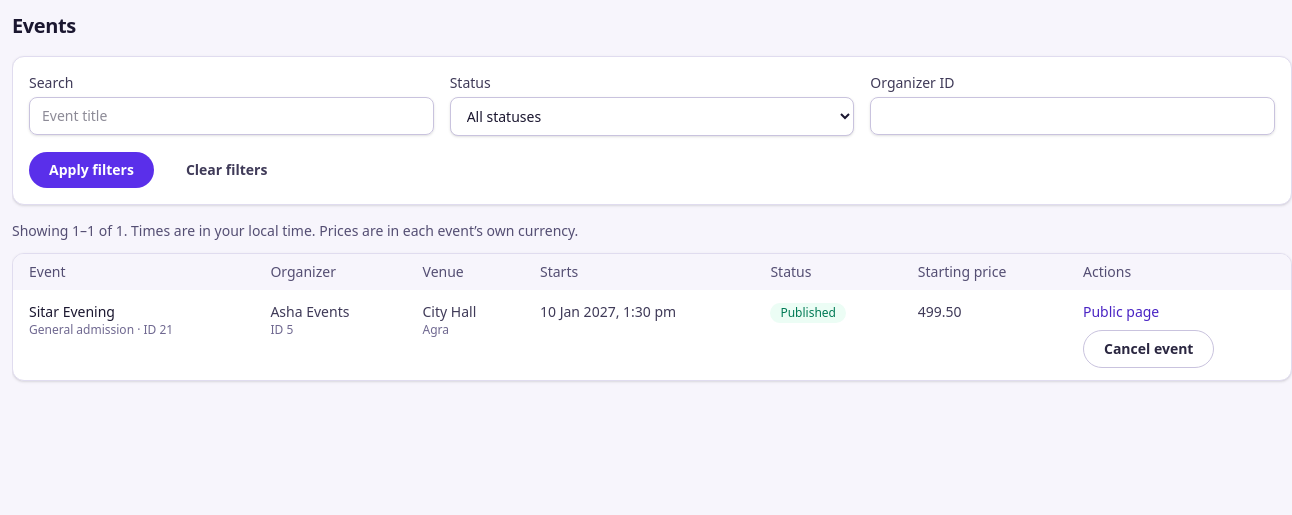
Scenario: AdminEventsPage › lets the admin back out of cancelling
This screenshot has width=1292, height=515.
Click the button with aria-label "Cancel Sitar Evening" at (1149, 349), box [1083, 330, 1214, 368]
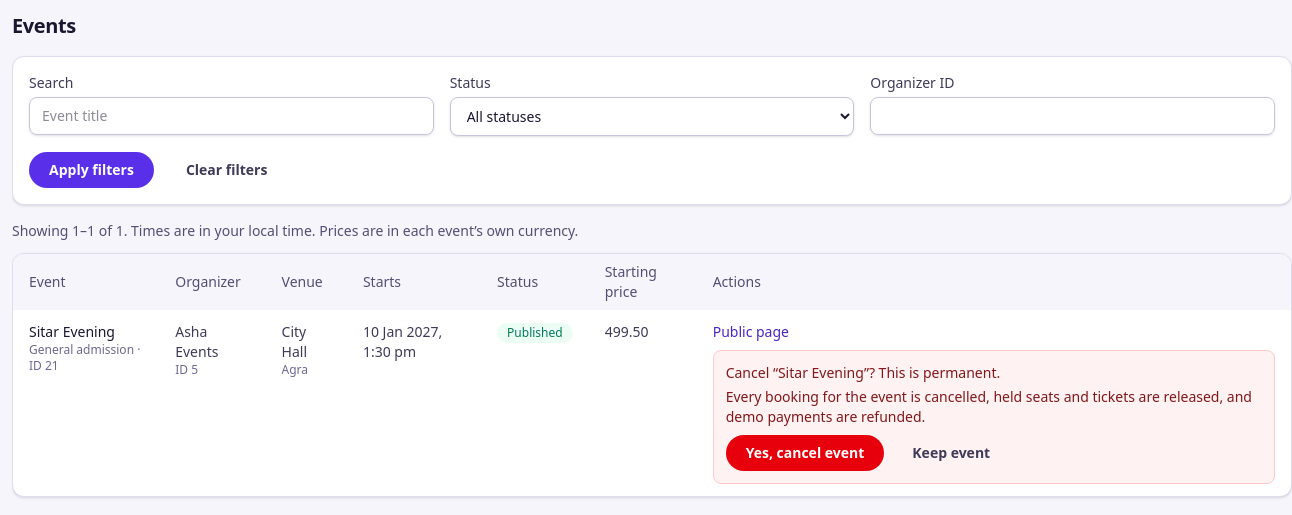
Click the button "Keep event" at (951, 453), box [892, 435, 1010, 471]
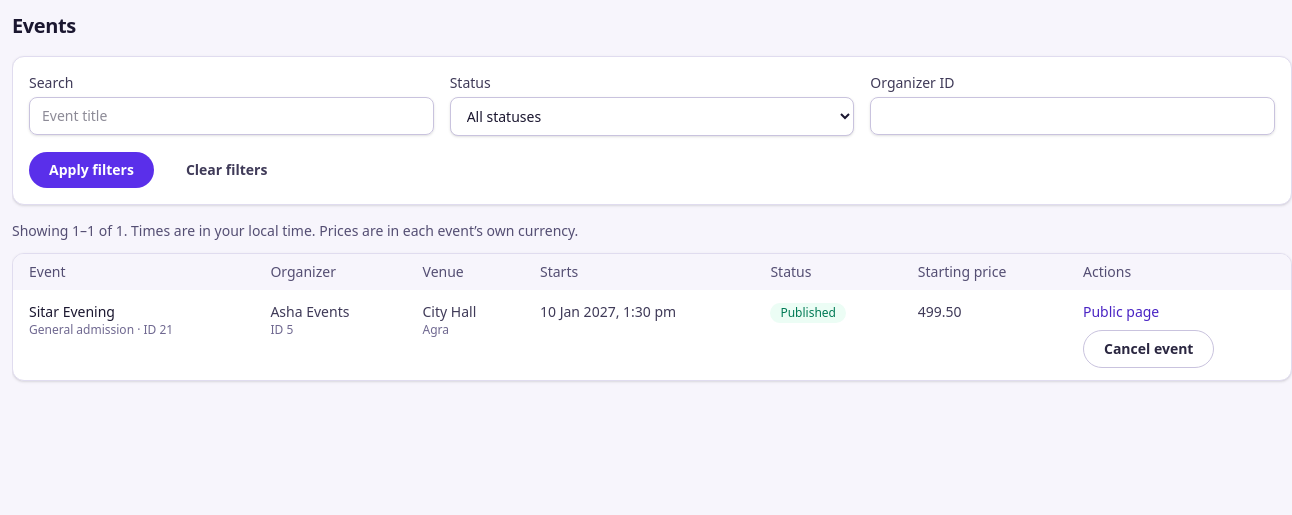
Check: the text "This is permanent" is gone
